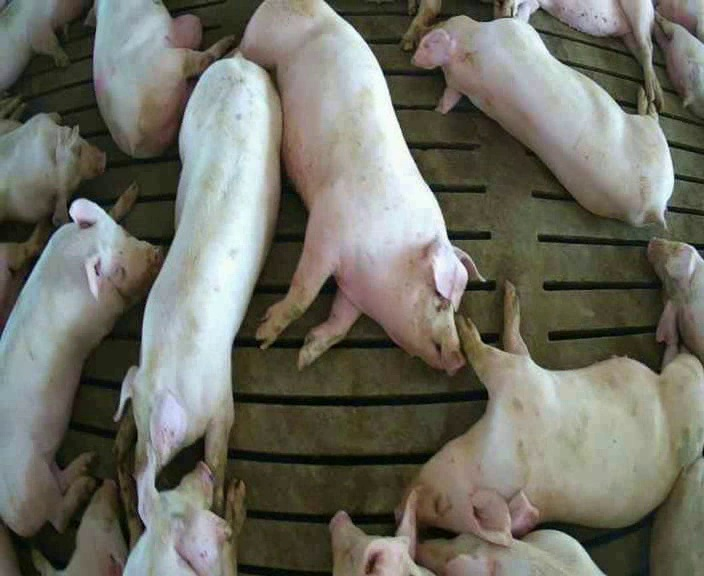pig: (240, 2, 485, 372), (393, 282, 701, 544), (412, 2, 673, 225), (0, 183, 161, 535), (84, 1, 233, 157), (501, 0, 663, 109), (32, 480, 126, 575), (329, 490, 432, 574), (0, 1, 85, 91), (648, 238, 703, 364), (654, 14, 703, 118)
